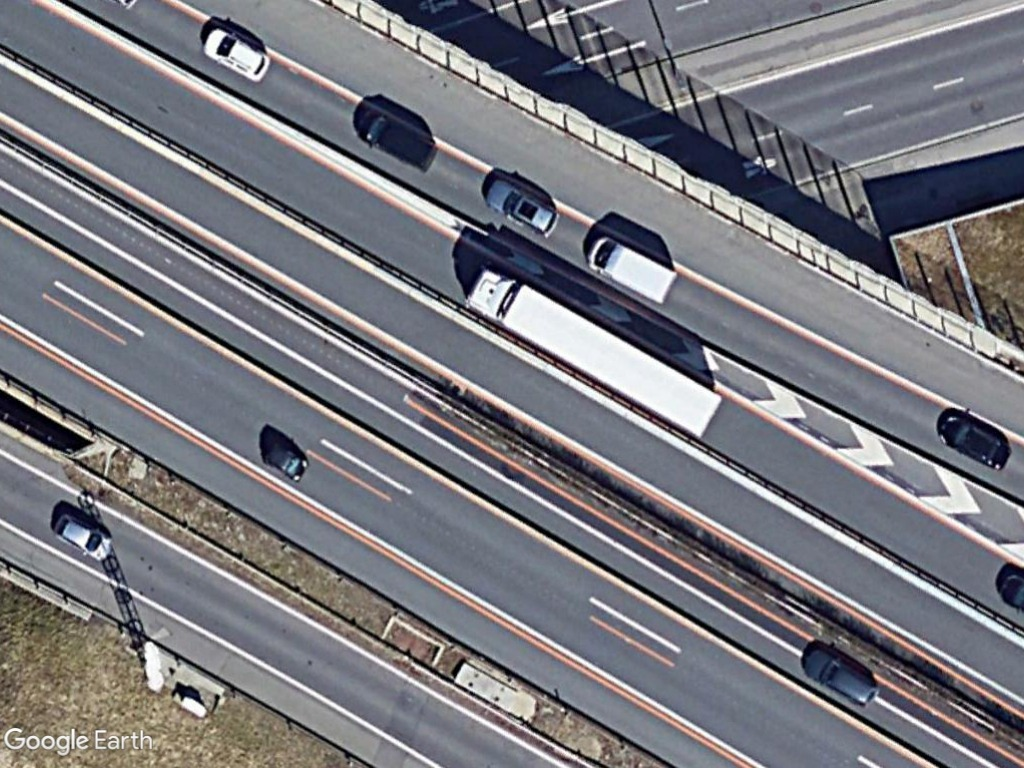car: (796, 647, 880, 712), (481, 174, 562, 239), (201, 25, 273, 82), (52, 513, 115, 564)
longvehicle: (463, 265, 725, 438)
van: (584, 234, 682, 308)
